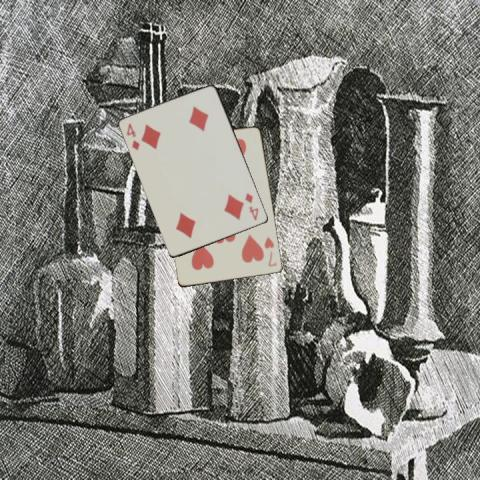4d: (242, 190, 260, 222), (124, 120, 141, 152)
7h: (261, 234, 278, 268)
